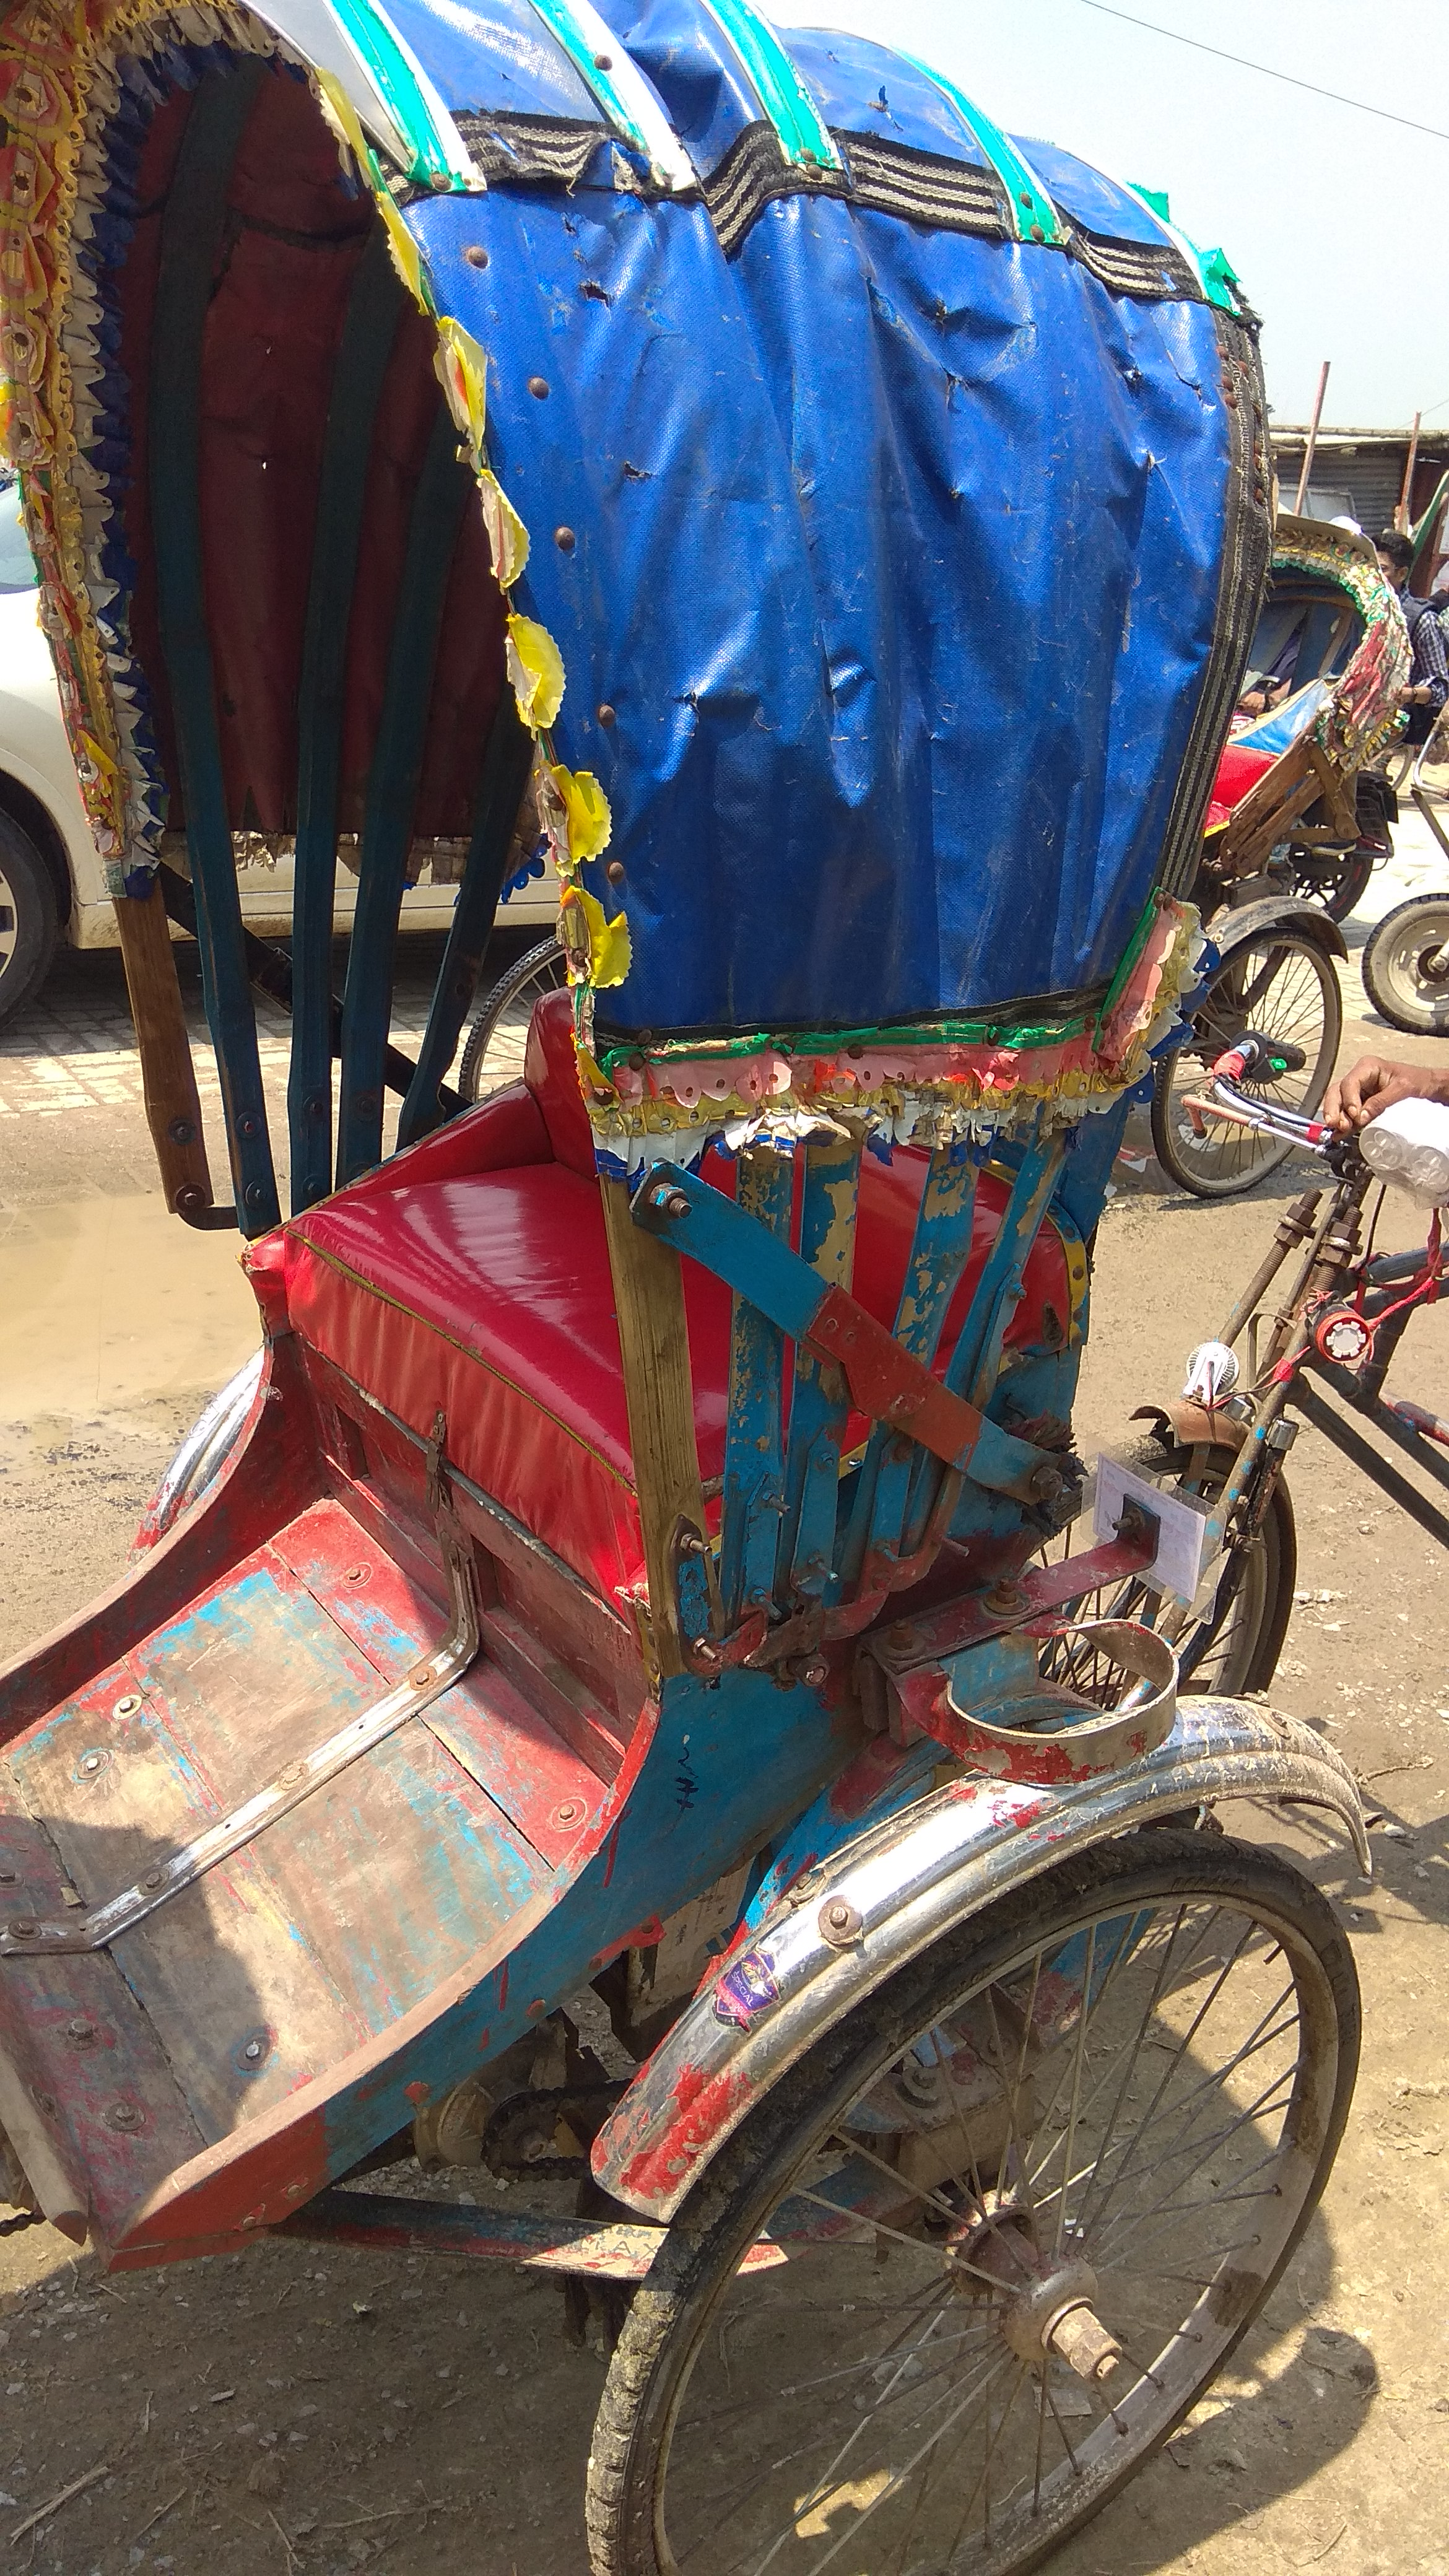Rickshaw: (4, 7, 1346, 2574), (1175, 472, 1373, 1108)
